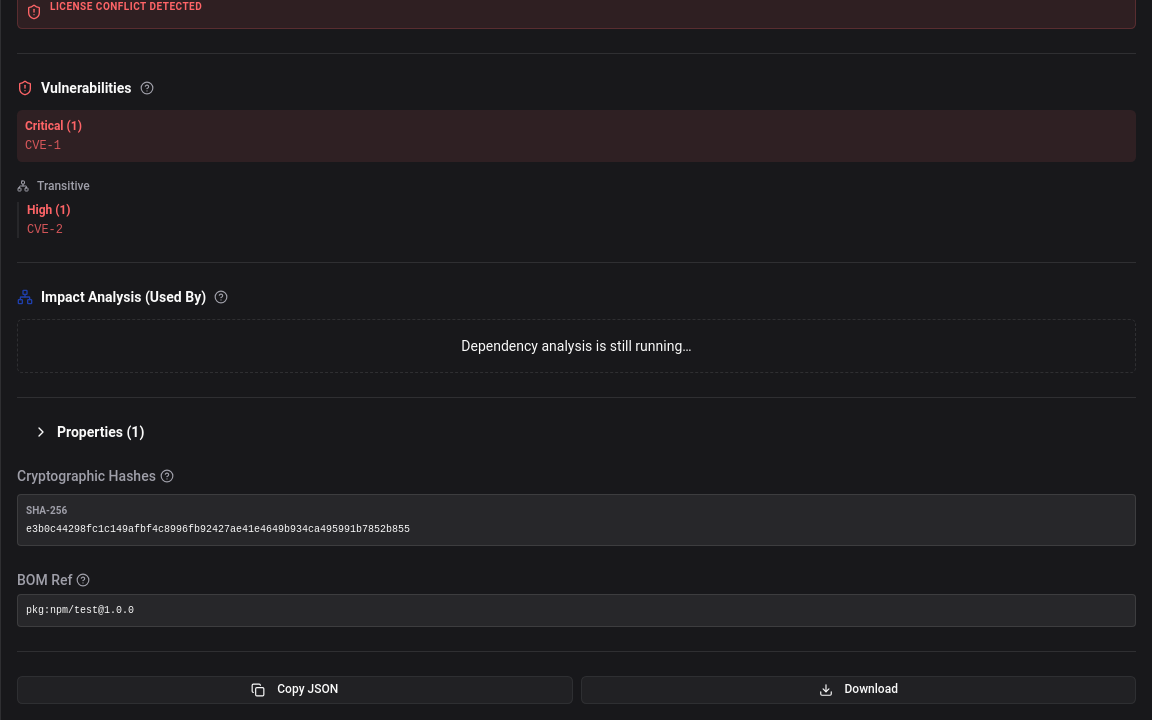
it: ComponentDetailPanel › copies JSON to clipboard
(page scrolled)
Note: Use getByRole for better accessibility matching
Click the button "Copy JSON": (295, 690) [17,676,572,704]
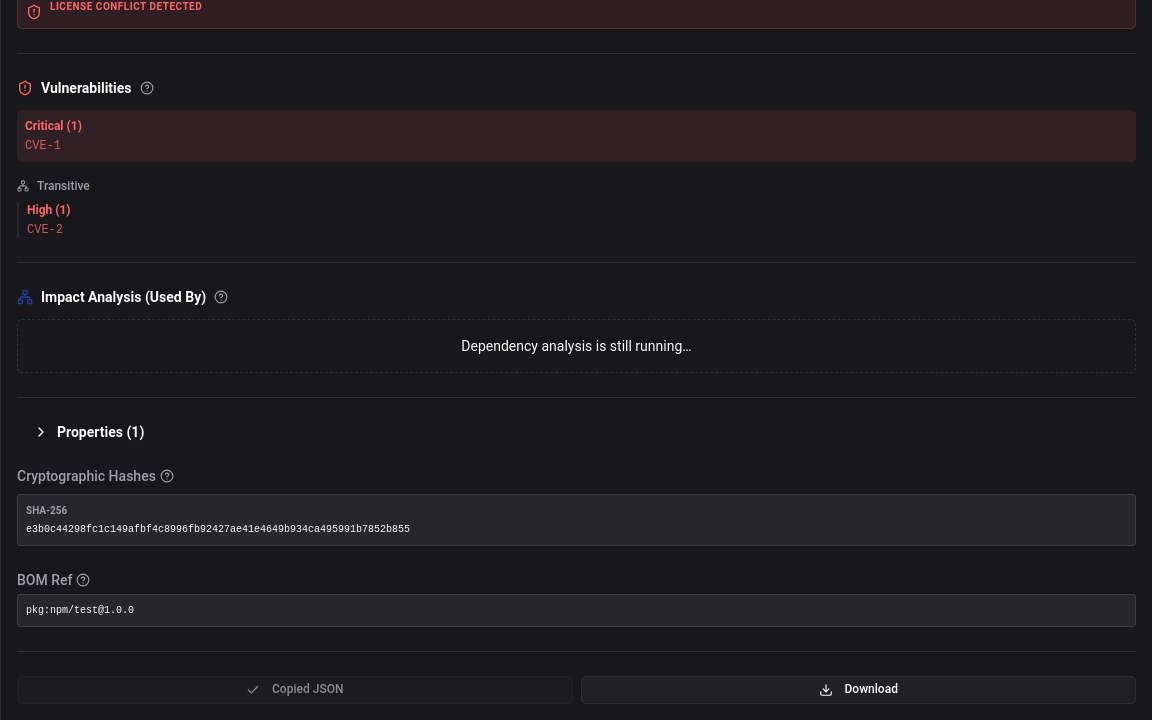
Expected: the button "Copied JSON" is shown, [17,676,572,704]
